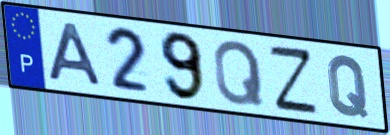2: (102, 24, 156, 97)
9: (158, 30, 210, 103)
A: (46, 20, 106, 89)
Q: (212, 38, 267, 107), (325, 53, 371, 120)
Z: (266, 43, 321, 115)
